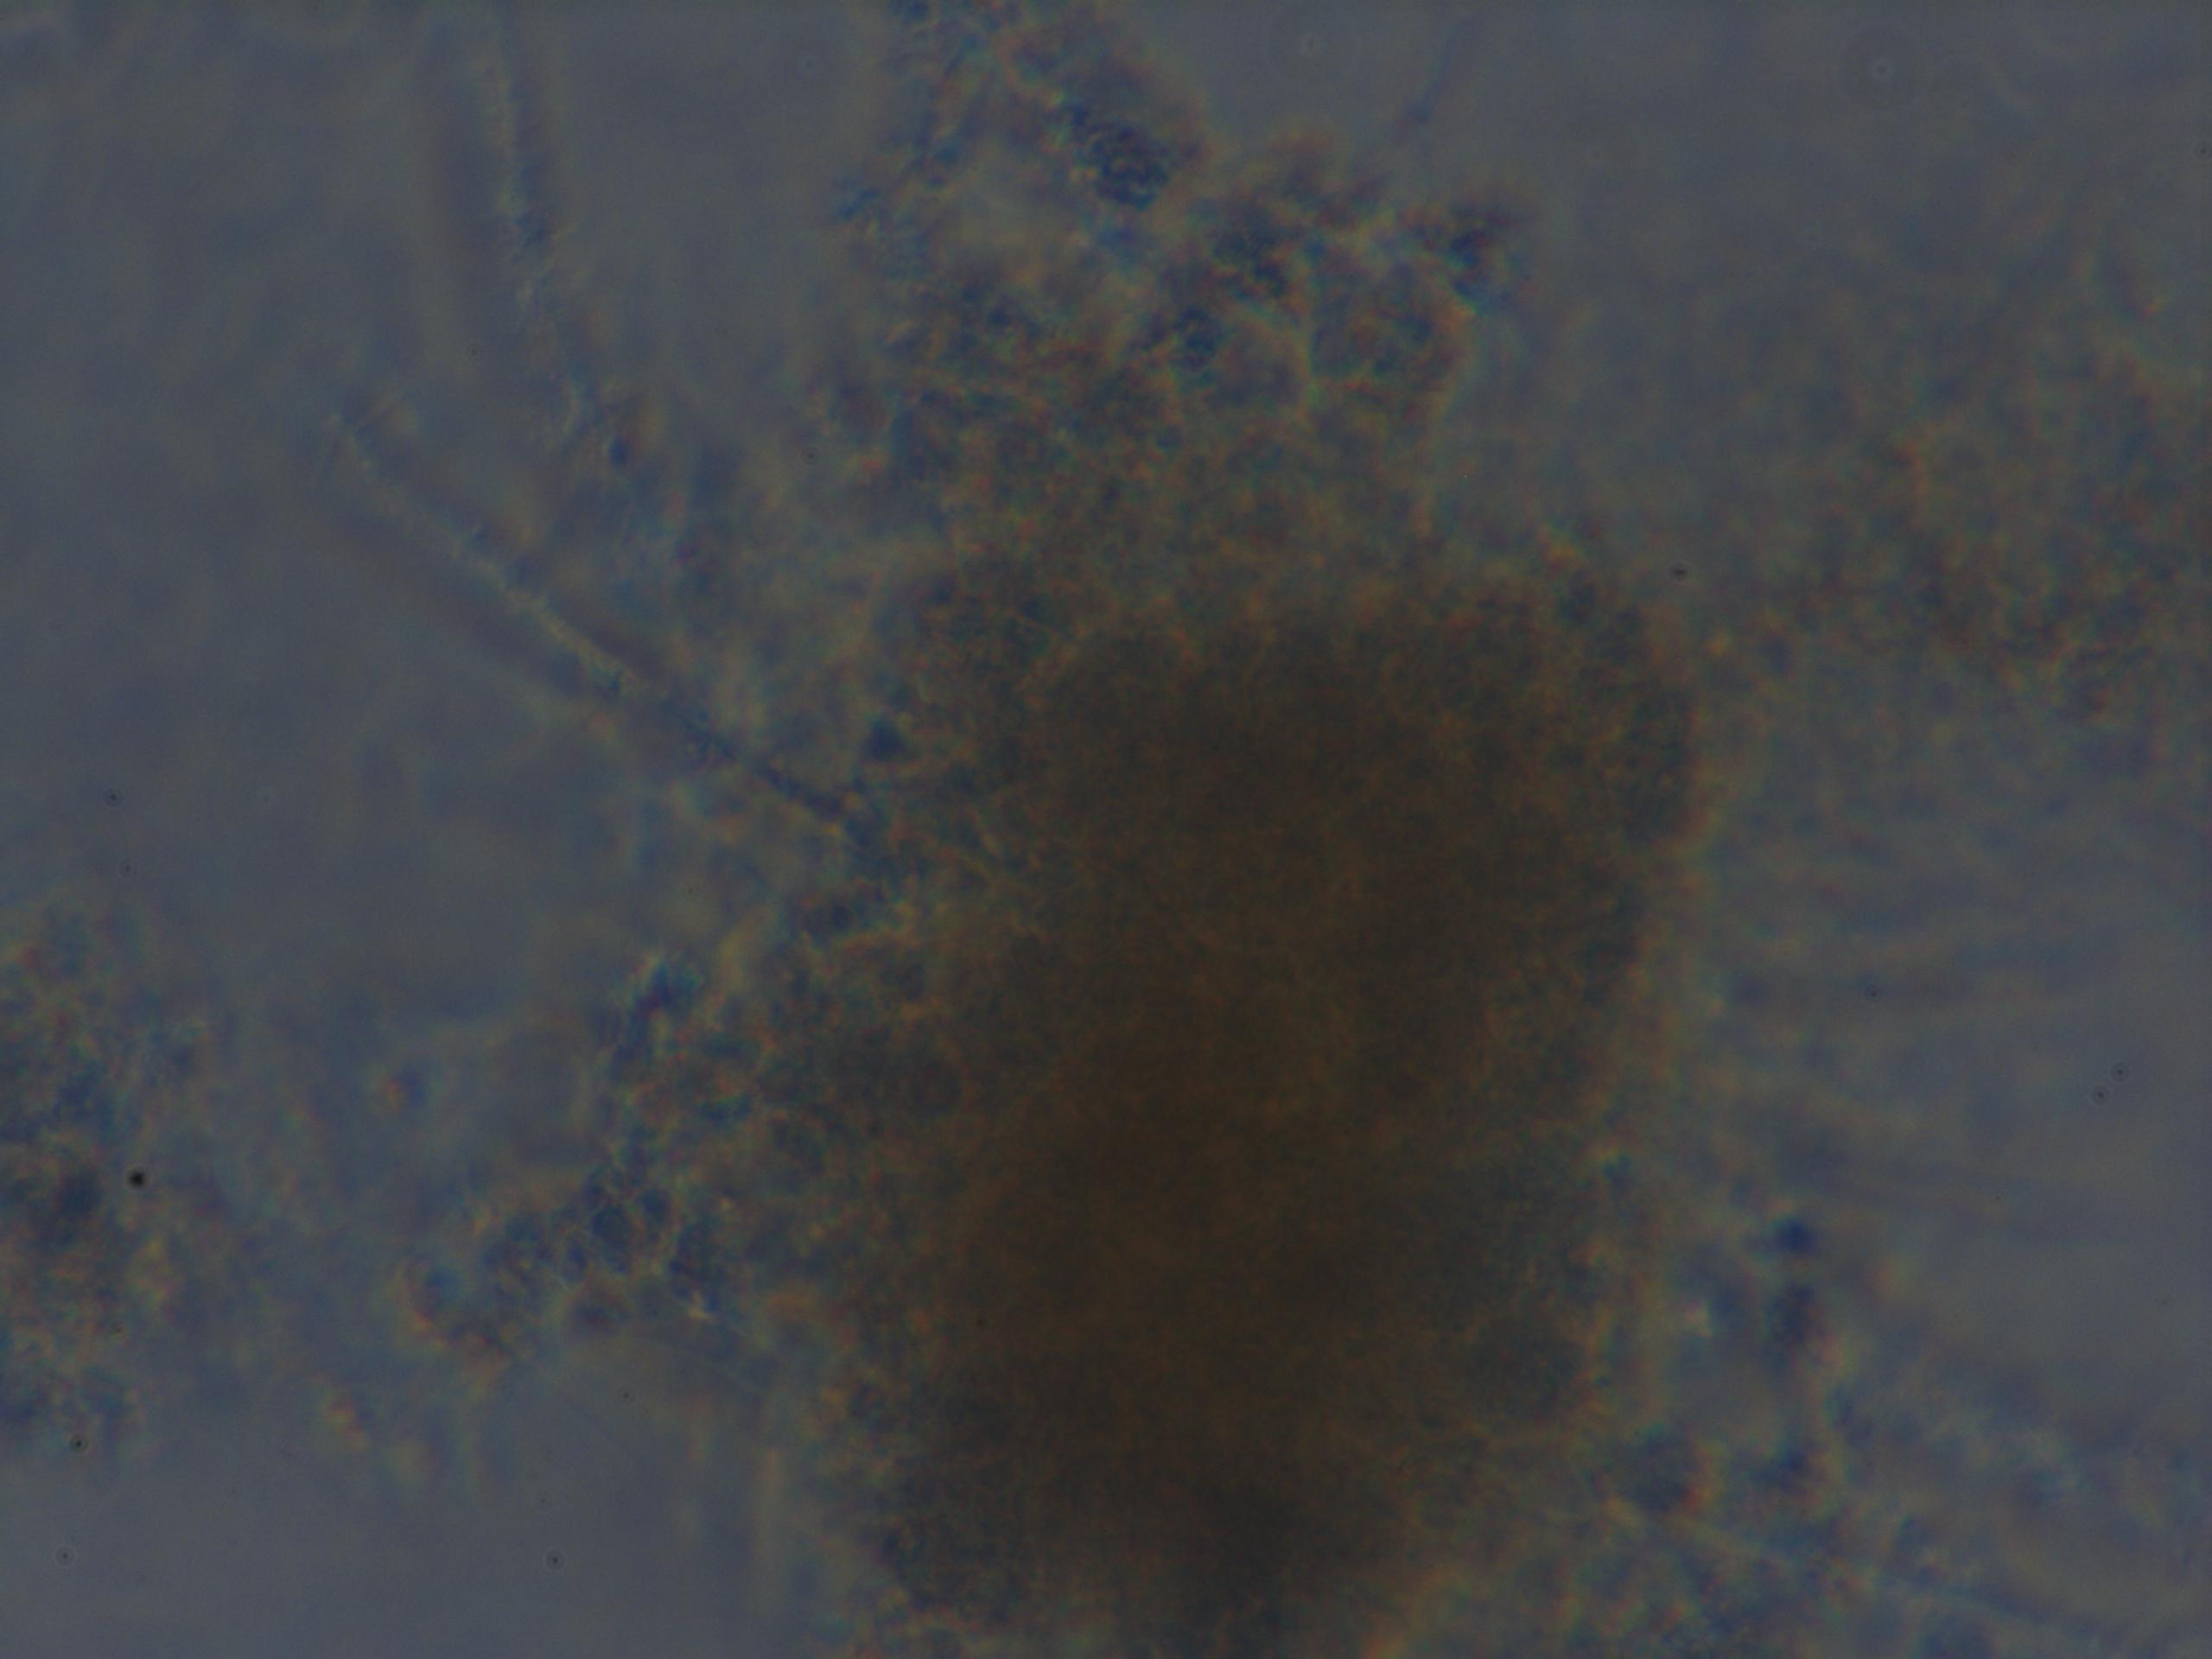filament: (317, 420, 867, 845)
spherical_floc: (759, 535, 1754, 1659)
